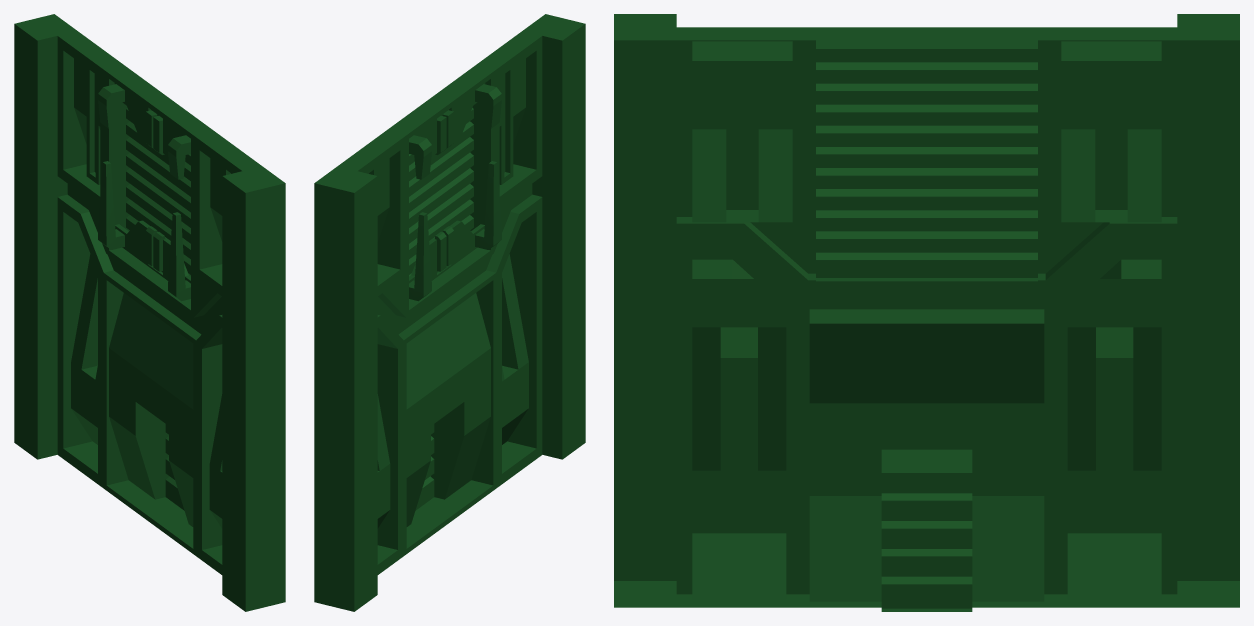
Rendered from Wall_B_4x4m_C.FBX.
The picture shows the model from 3 angles, left to right: view 1: azimuth 30°, elevation 25°; view 2: azimuth 150°, elevation 25°; view 3: azimuth 270°, elevation 25°; orthographic projection. The views are drawn at different scales.
Visible parts, largest first — view 1: Wall_B_4x4m_C; view 2: Wall_B_4x4m_C; view 3: Wall_B_4x4m_C.
Boxes of the visible parts, x1,y1,x2,y2 form: Wall_B_4x4m_C: (14,14,285,611); Wall_B_4x4m_C: (314,14,585,611); Wall_B_4x4m_C: (614,14,1239,611).
Size of the model in its own units: 58.04 by 400 by 400.
